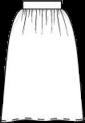Hemline: (0, 118, 83, 122)
Waistline: (22, 7, 61, 9), (22, 0, 61, 1)
